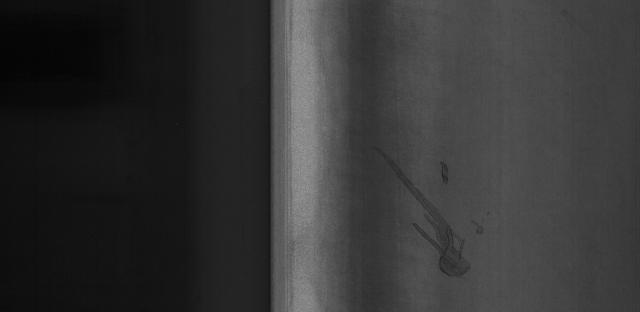water_spot: (360, 130, 502, 291)
